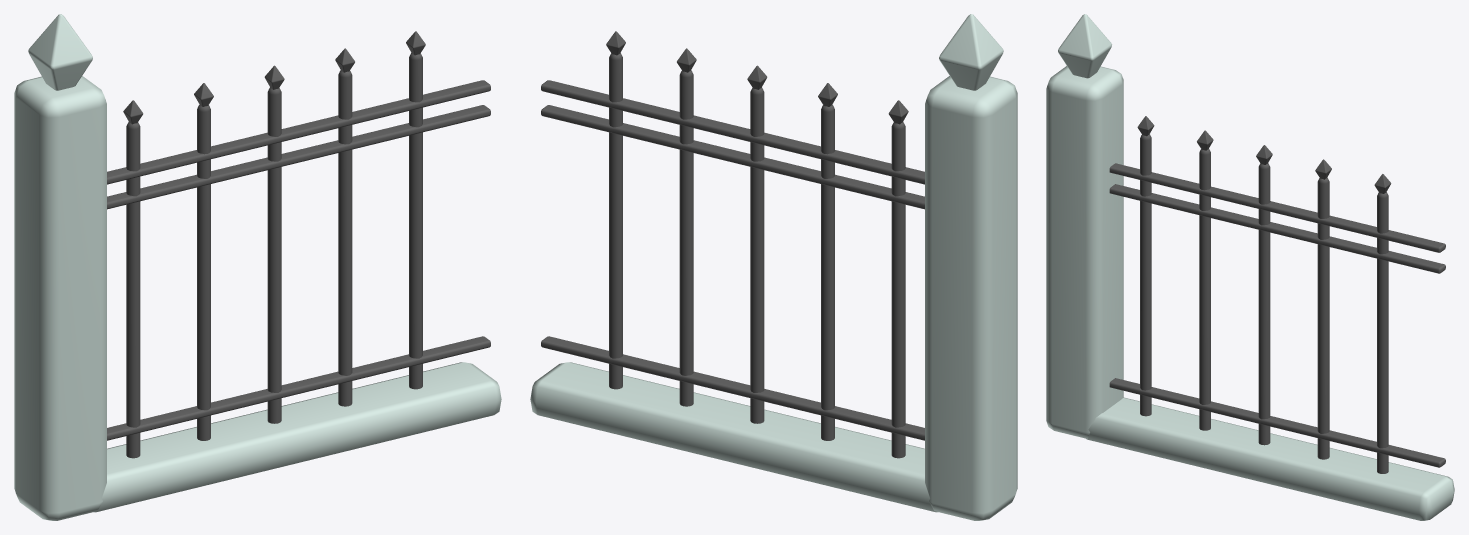
File: Wall.fbx
3 views of the same model, side by side, from view 1: azimuth 30°, elevation 25°; view 2: azimuth 150°, elevation 25°; view 3: azimuth 330°, elevation 25° (orthographic). The views are drawn at different scales.
Visible parts, largest first — view 1: pCube44; view 2: pCube44; view 3: pCube44.
Boxes of the visible parts, x1,y1,x2,y2 form: pCube44: [14, 14, 501, 520]; pCube44: [530, 14, 1017, 520]; pCube44: [1046, 14, 1454, 520].
Size of the model in its own units: 230 by 236 by 33.25.
